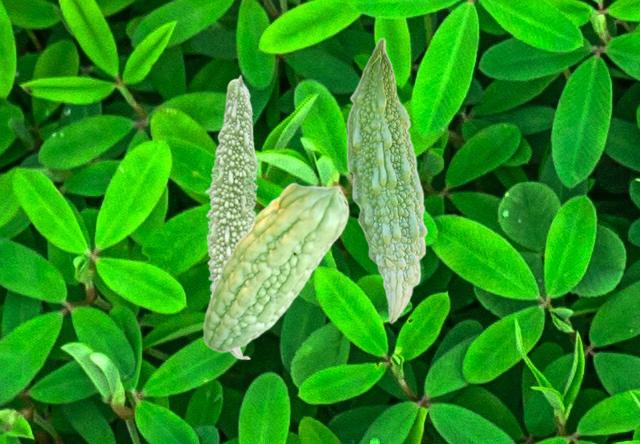ampalaya: (202, 182, 351, 355), (344, 37, 429, 324), (203, 72, 261, 361)
